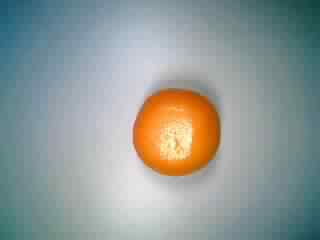orange: (129, 83, 226, 179)
